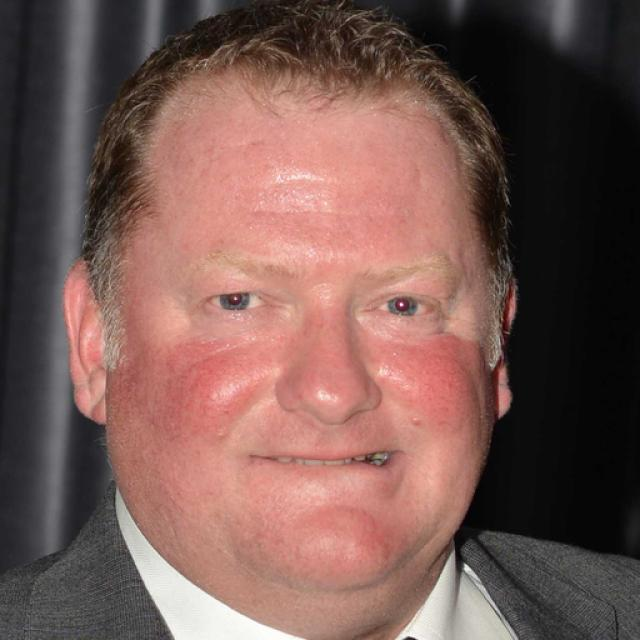Pigmentation: (111, 327, 290, 441), (365, 332, 498, 430), (295, 501, 398, 570)
